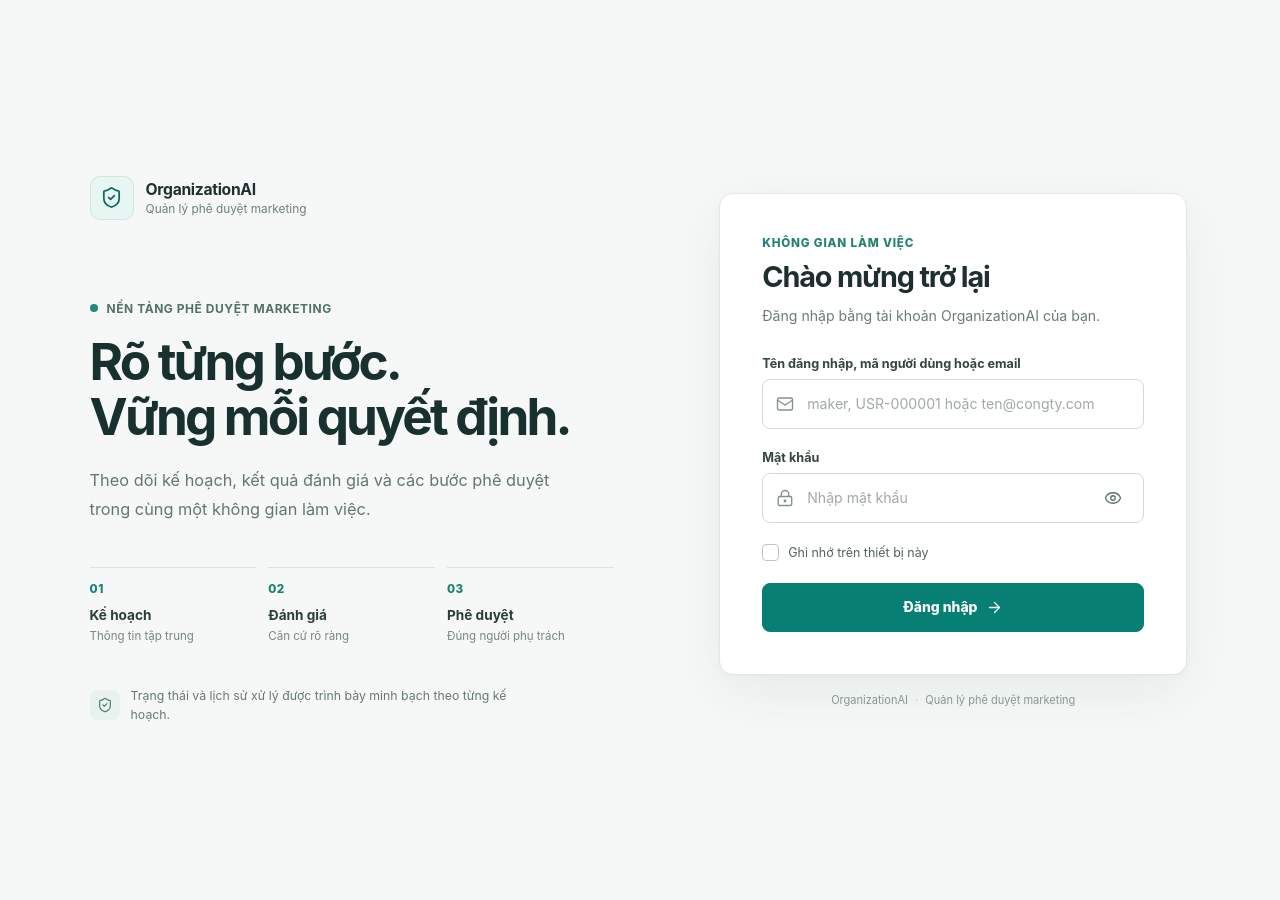
renders labeled login inputs and submits user code and password through the auth service
This screenshot has width=1280, height=900.
Type "USR-000001" into the field labelled "Tên đăng nhập, mã người dùng hoặc email".
click(968, 404); type("USR-000001")  # box [805, 380, 1130, 428]
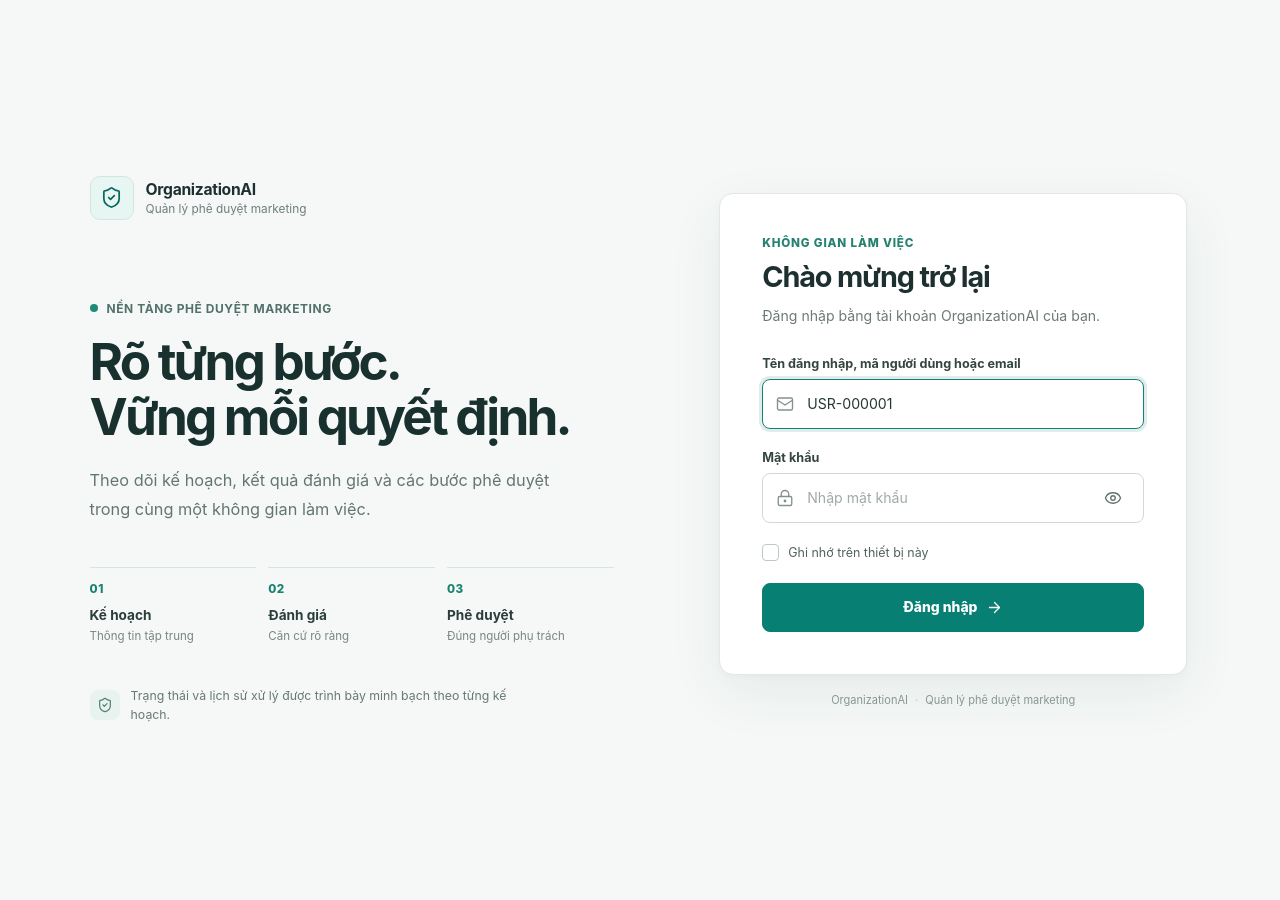
Type "local-secret" into the password field labelled "Mật khẩu".
click(945, 498); type("local-secret")  # box [805, 474, 1085, 522]
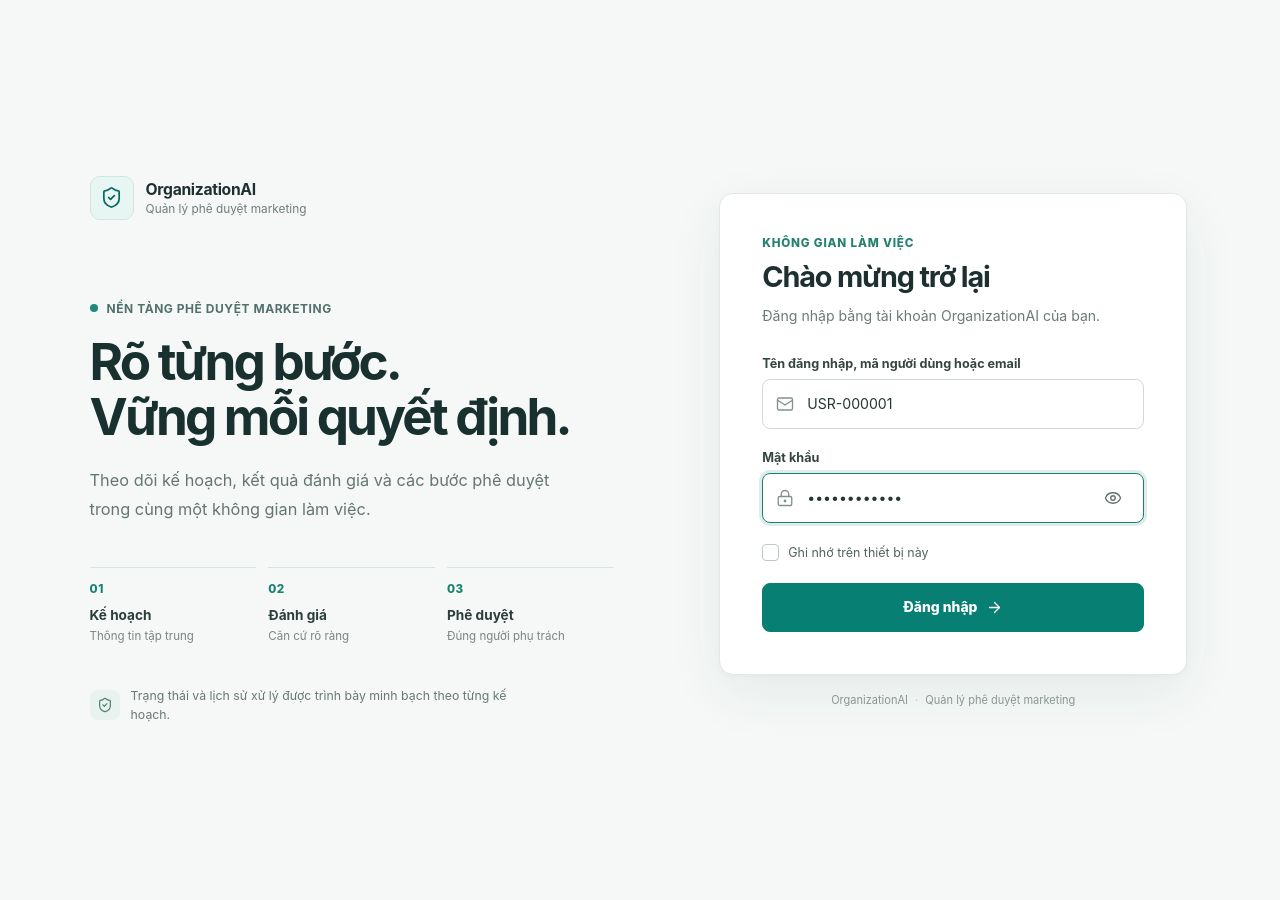
Click the checkbox labelled "Ghi nhớ trên thiết bị này".
click(845, 552)  # box [762, 544, 929, 561]
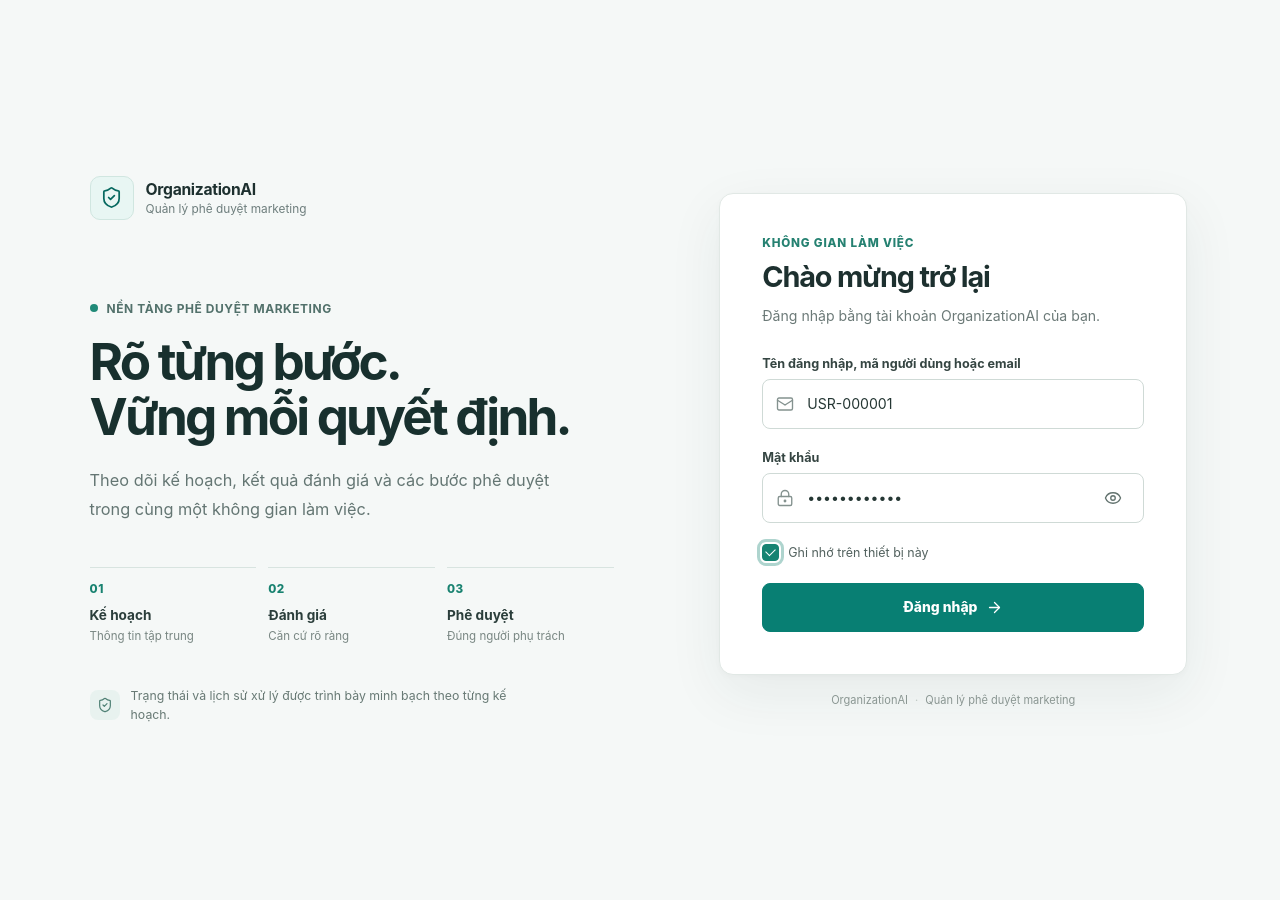
Click the button "Đăng nhập".
click(953, 607)  # box [762, 583, 1144, 632]
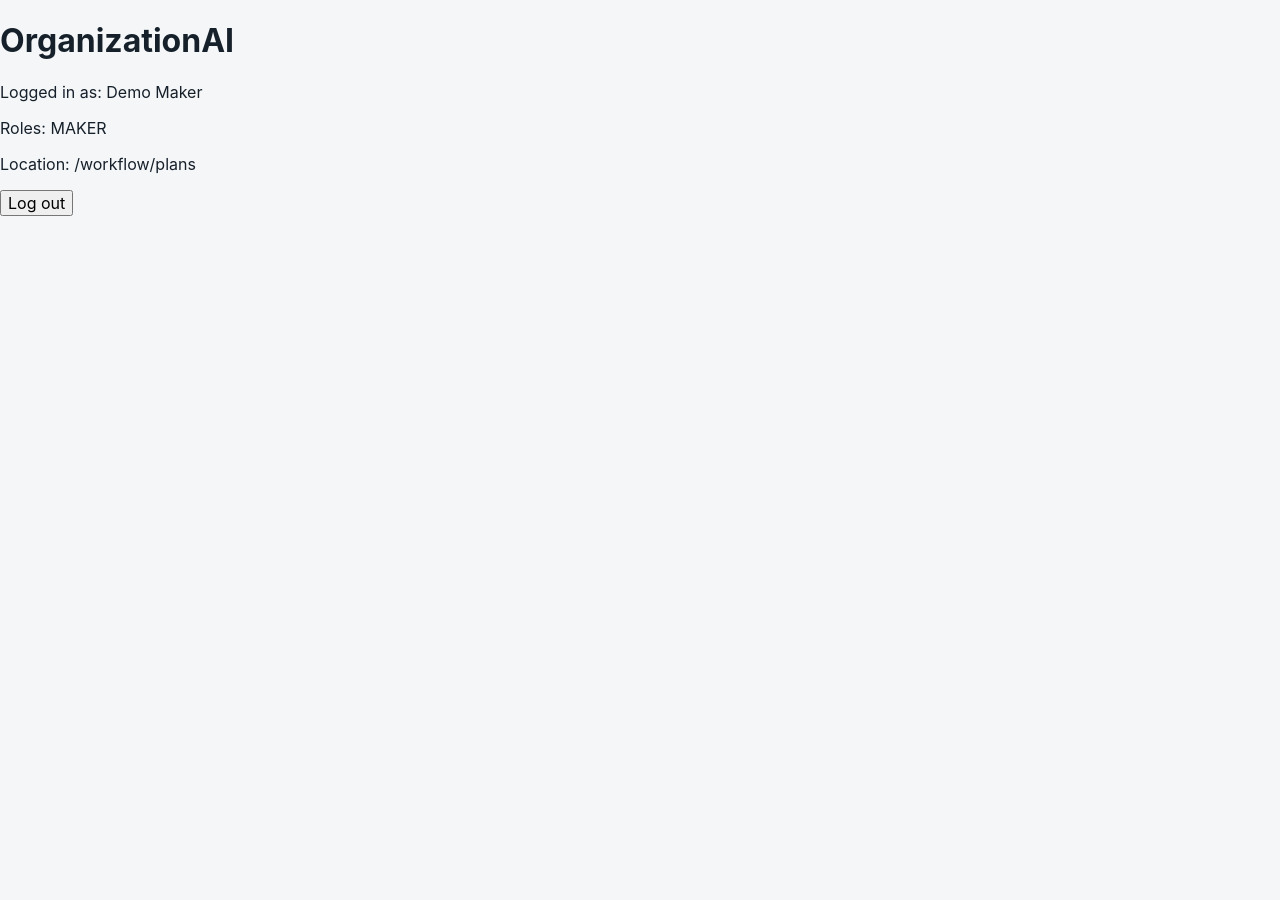
Check: the text "Logged in as: Demo Maker" is shown, box [0, 82, 202, 102]
